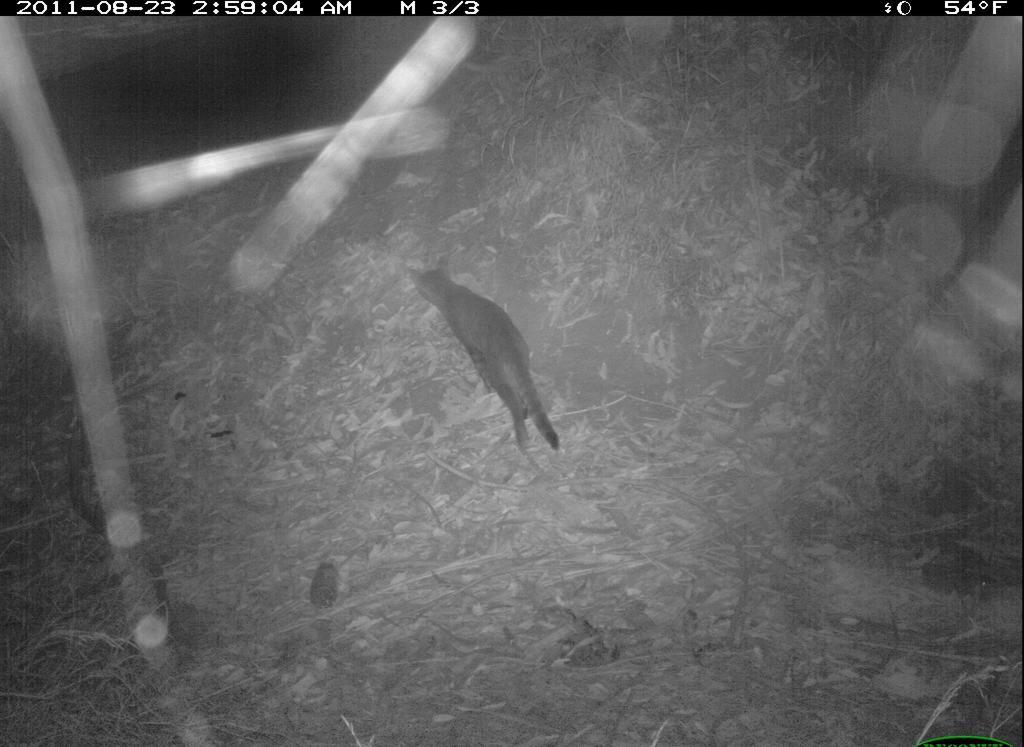cat: (405, 250, 577, 461), (308, 560, 347, 615)
